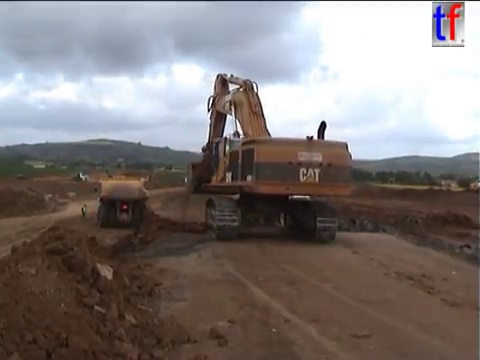excavator: (181, 69, 356, 245)
truck: (92, 173, 150, 229), (71, 170, 90, 183), (467, 176, 480, 193)
worker: (79, 201, 88, 221)
